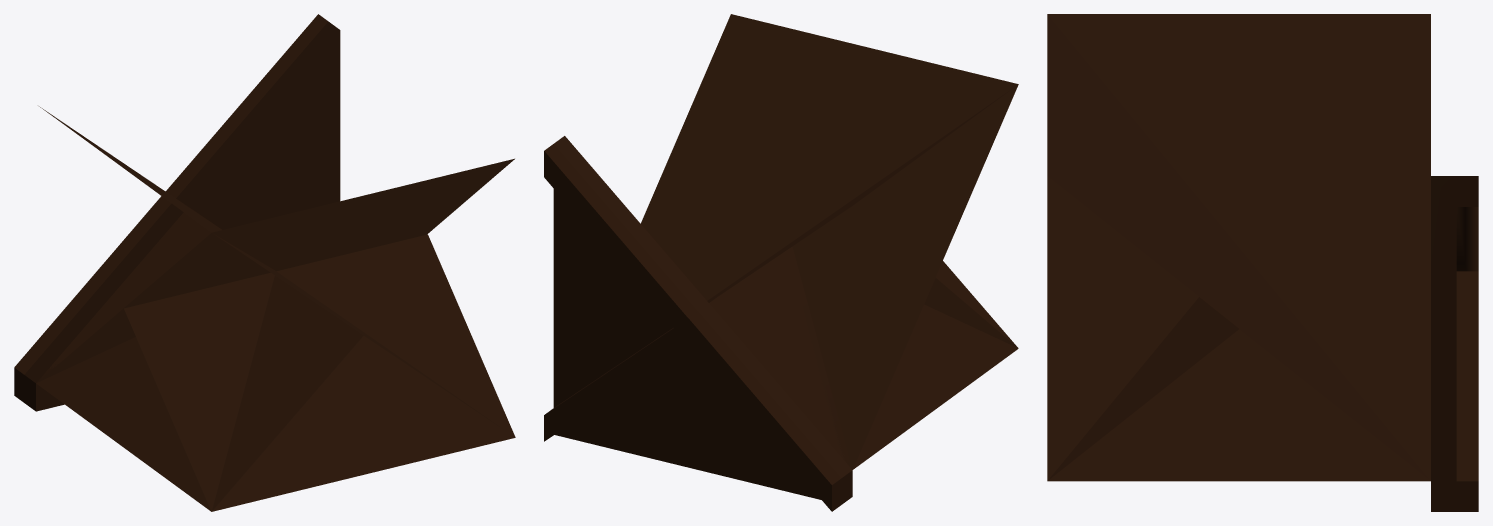
File: Kit_Archi_Roof_High.fbx
3 views of the same model, side by side, from view 1: azimuth 30°, elevation 25°; view 2: azimuth 150°, elevation 25°; view 3: azimuth 270°, elevation 25° (orthographic). The views are drawn at different scales.
Visible parts, largest first — view 1: Roof_006, Roof_001, Roof_011, Roof_004, Roof_007, Roof_005, Object003, Roof_008, Roof_014, Roof_010, Roof_002; view 2: Roof_002, Roof_004, Object003, Roof_001, Roof_005, Roof_011, Roof_014, Roof_007; view 3: Roof_002, Roof_008, Roof_001, Object003, Roof_004, Roof_006, Roof_005, Roof_010.
Part boxes in pixels (x1,y1,x2,y2): Roof_006: [124, 243, 511, 473]; Roof_001: [18, 14, 340, 411]; Roof_011: [36, 337, 515, 511]; Roof_004: [212, 158, 514, 271]; Roof_007: [37, 275, 470, 426]; Roof_005: [47, 212, 515, 511]; Object003: [14, 191, 182, 411]; Roof_008: [53, 232, 506, 431]; Roof_014: [37, 364, 288, 510]; Roof_010: [393, 234, 457, 308]; Roof_002: [39, 106, 221, 232]; Roof_002: [640, 14, 1018, 302]; Roof_004: [668, 84, 1018, 469]; Object003: [544, 303, 852, 511]; Roof_001: [544, 136, 852, 502]; Roof_005: [709, 250, 845, 461]; Roof_011: [853, 304, 1018, 469]; Roof_014: [709, 246, 1017, 469]; Roof_007: [924, 261, 1017, 347]; Roof_002: [1047, 14, 1430, 480]; Roof_008: [1047, 176, 1430, 481]; Roof_001: [1431, 176, 1478, 511]; Object003: [1431, 271, 1478, 511]; Roof_004: [1193, 192, 1430, 480]; Roof_006: [1108, 297, 1404, 460]; Roof_005: [1048, 348, 1316, 480]; Roof_010: [1175, 320, 1238, 379].
Bounding box in the file's own units: 300 × 290 × 337.
